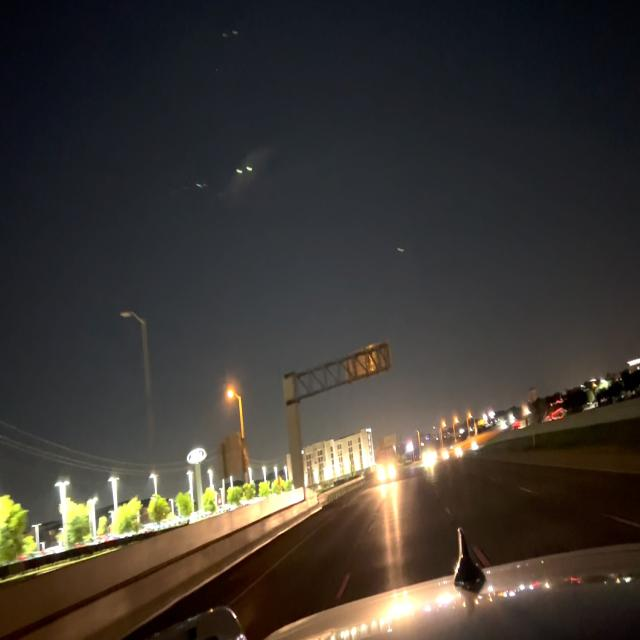back-of-sign: (345, 337, 393, 390), (215, 439, 250, 485)
